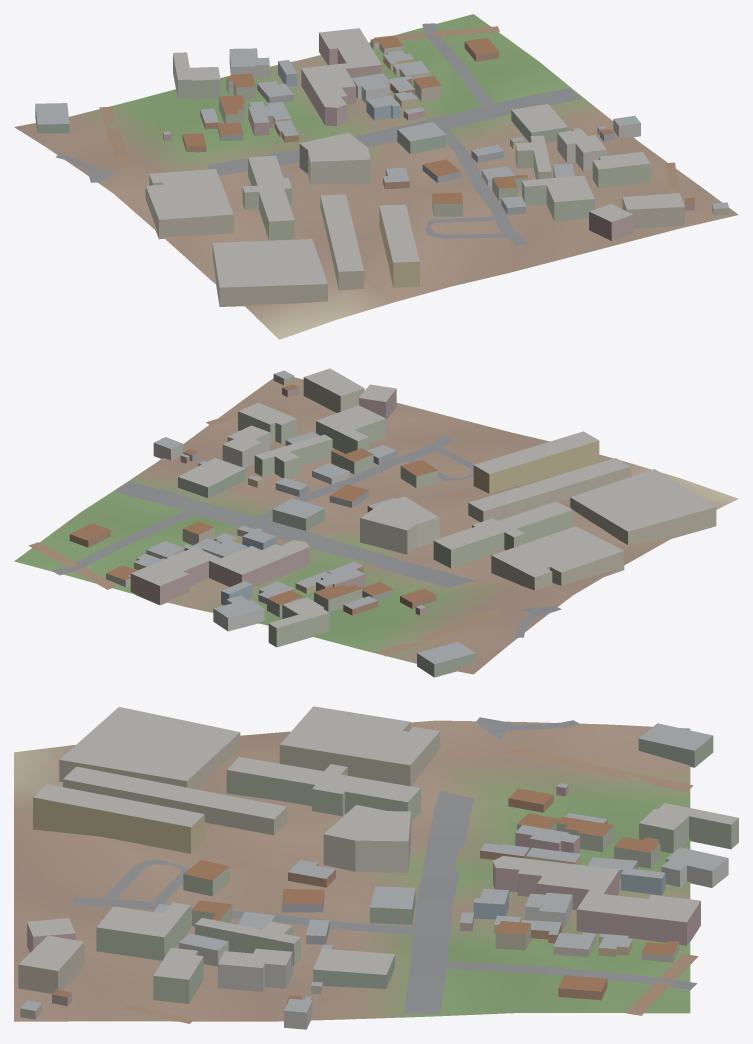
The picture shows the model from 3 angles, top to bottom: view 1: azimuth 30°, elevation 25°; view 2: azimuth 150°, elevation 25°; view 3: azimuth 270°, elevation 25°; orthographic projection. The views are drawn at different scales.
Visible parts, largest first — view 1: Lo; view 2: Lo; view 3: Lo.
Part boxes in pixels (box(x1,y1,x2,y2)): Lo: box(14, 14, 738, 339); Lo: box(14, 368, 738, 677); Lo: box(14, 706, 738, 1029).
Bounding box in the file's own units: 272 × 21.02 × 274.
